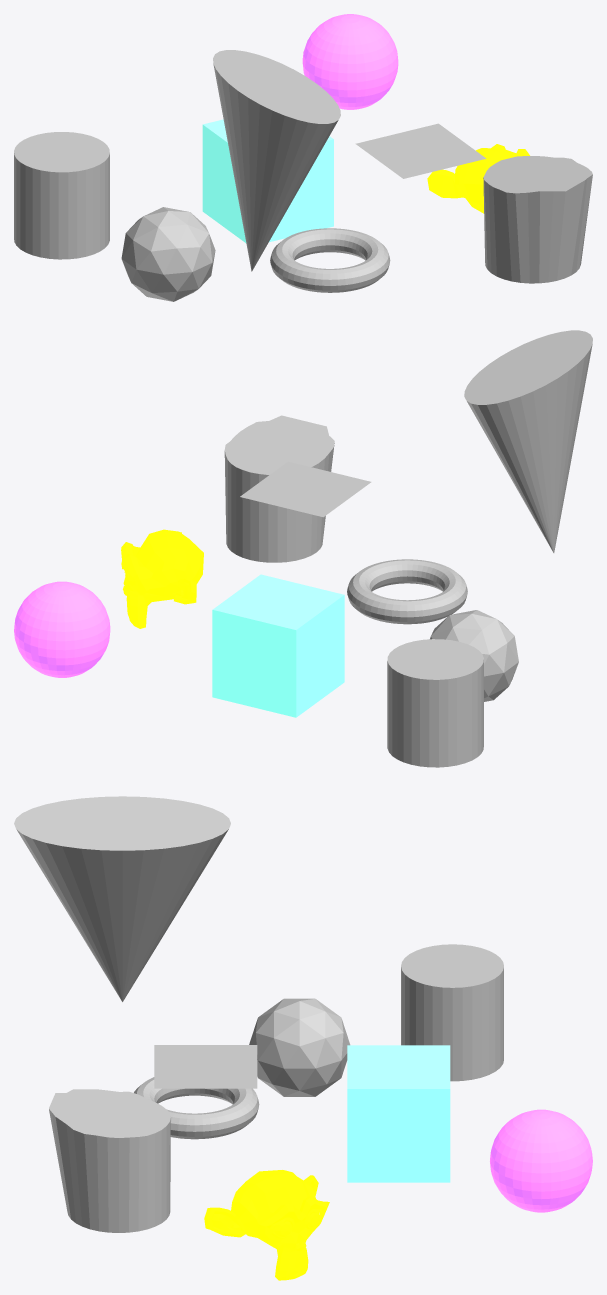
Rendered from sample_object01.gltf.
3 renders of one model, top to bottom at view 1: azimuth 30°, elevation 25°; view 2: azimuth 150°, elevation 25°; view 3: azimuth 270°, elevation 25°, orthographic. The views are drawn at different scales.
Visible parts, largest first — view 1: Cone, Cylinder, Cylinder.001, Sphere, Icosphere, Cube, Torus, Plane, Suzanne; view 2: Cube, Cone, Cylinder.001, Cylinder, Sphere, Torus, Suzanne, Plane, Icosphere; view 3: Cone, Cylinder, Cube, Cylinder.001, Sphere, Icosphere, Suzanne, Plane, Torus.
Boxes of the visible parts, x1,y1,x2,y2 form: Cone: [213, 50, 340, 271]; Cylinder: [483, 156, 592, 283]; Cylinder.001: [14, 132, 109, 259]; Sphere: [302, 14, 398, 109]; Icosphere: [121, 207, 215, 301]; Cube: [202, 119, 333, 242]; Torus: [270, 228, 390, 292]; Plane: [355, 123, 486, 178]; Suzanne: [427, 144, 529, 213]; Cube: [212, 574, 344, 717]; Cone: [464, 330, 592, 552]; Cylinder.001: [387, 639, 483, 767]; Cylinder: [224, 415, 334, 562]; Sphere: [14, 581, 110, 677]; Torus: [347, 559, 467, 624]; Suzanne: [121, 529, 203, 628]; Plane: [240, 461, 371, 517]; Icosphere: [430, 610, 518, 701]; Cone: [14, 796, 230, 1001]; Cylinder: [49, 1089, 170, 1232]; Cube: [347, 1045, 450, 1182]; Cylinder.001: [401, 944, 503, 1081]; Sphere: [490, 1109, 592, 1212]; Icosphere: [249, 998, 350, 1096]; Suzanne: [204, 1170, 329, 1280]; Plane: [154, 1045, 257, 1088]; Torus: [134, 1077, 259, 1139].
Size of the model in its own units: 2.97 by 1.81 by 3.18.
